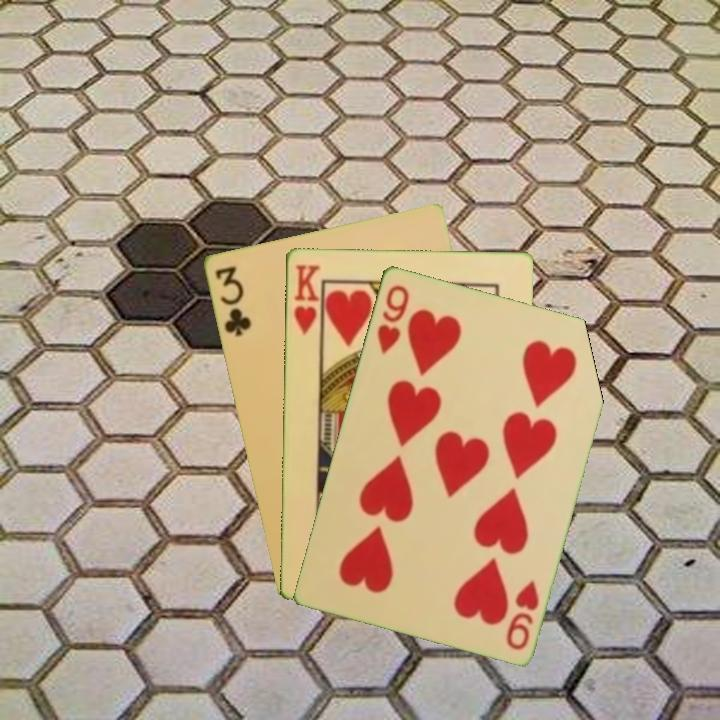3c: (211, 262, 254, 339)
9h: (502, 576, 542, 653), (373, 281, 412, 356)
Kh: (290, 261, 323, 342)
